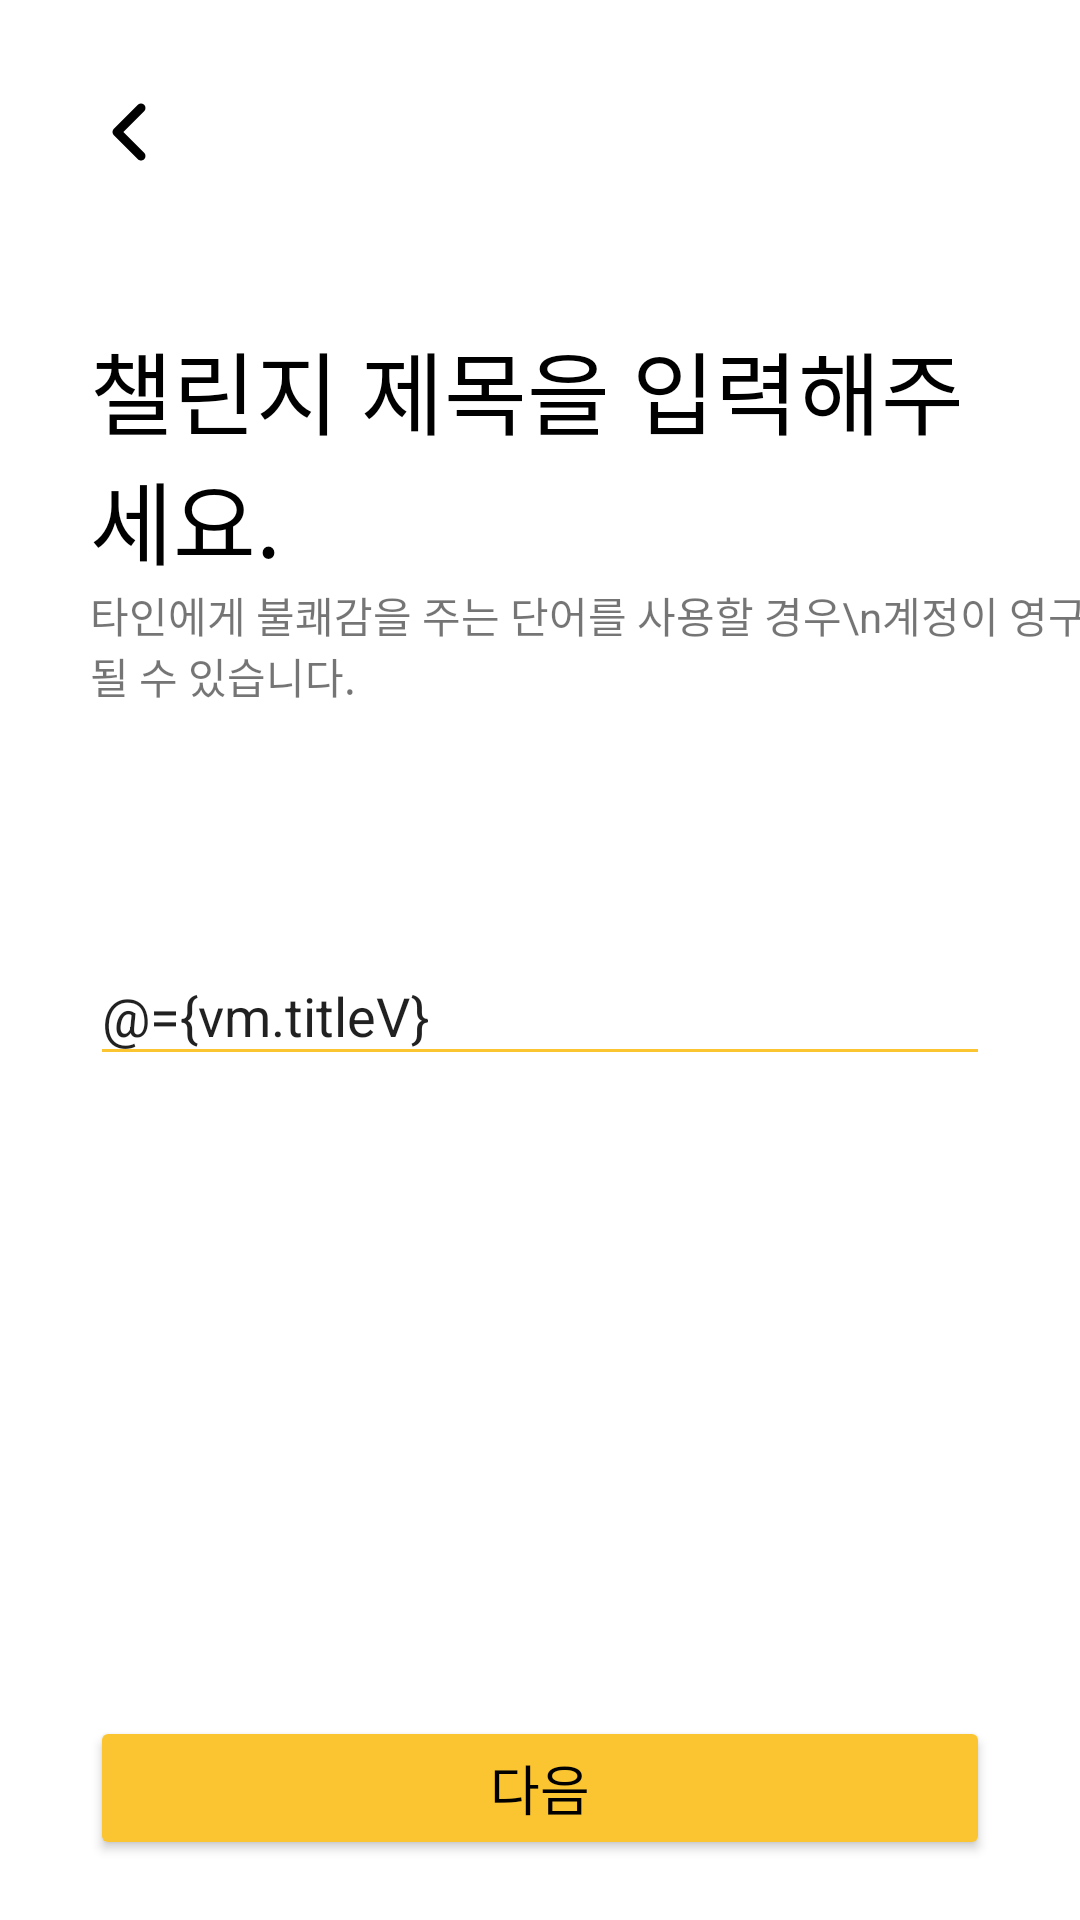

Named icons in this screenshot (1080x1920) and their centers, point (x, y):
back: point (129, 132)
